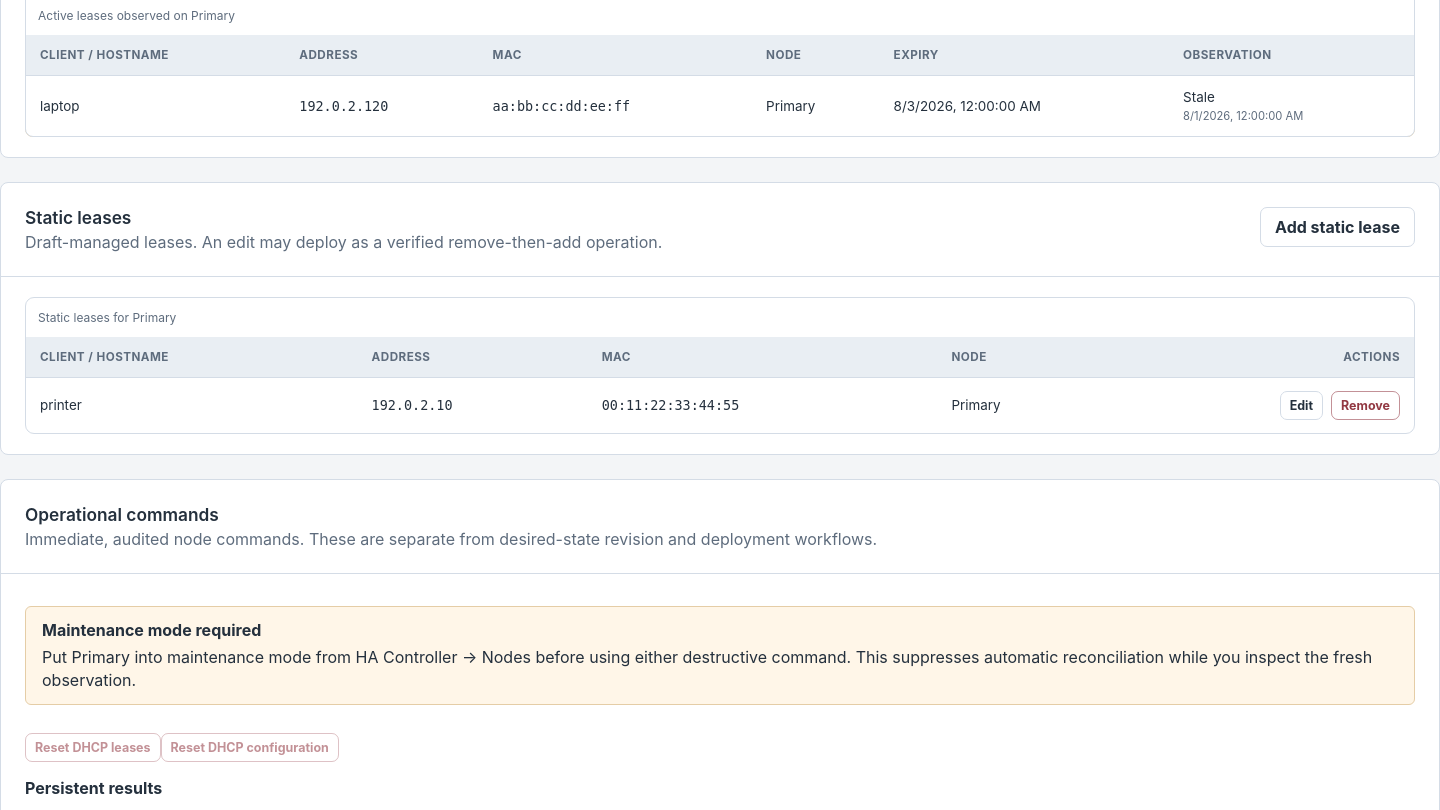
Scenario: DHCP page › edits an existing static lease in a focused draft-only dialog
The image size is (1440, 810).
(page scrolled)
Click the button "Edit" at [1301, 405], box [1280,391,1323,420]
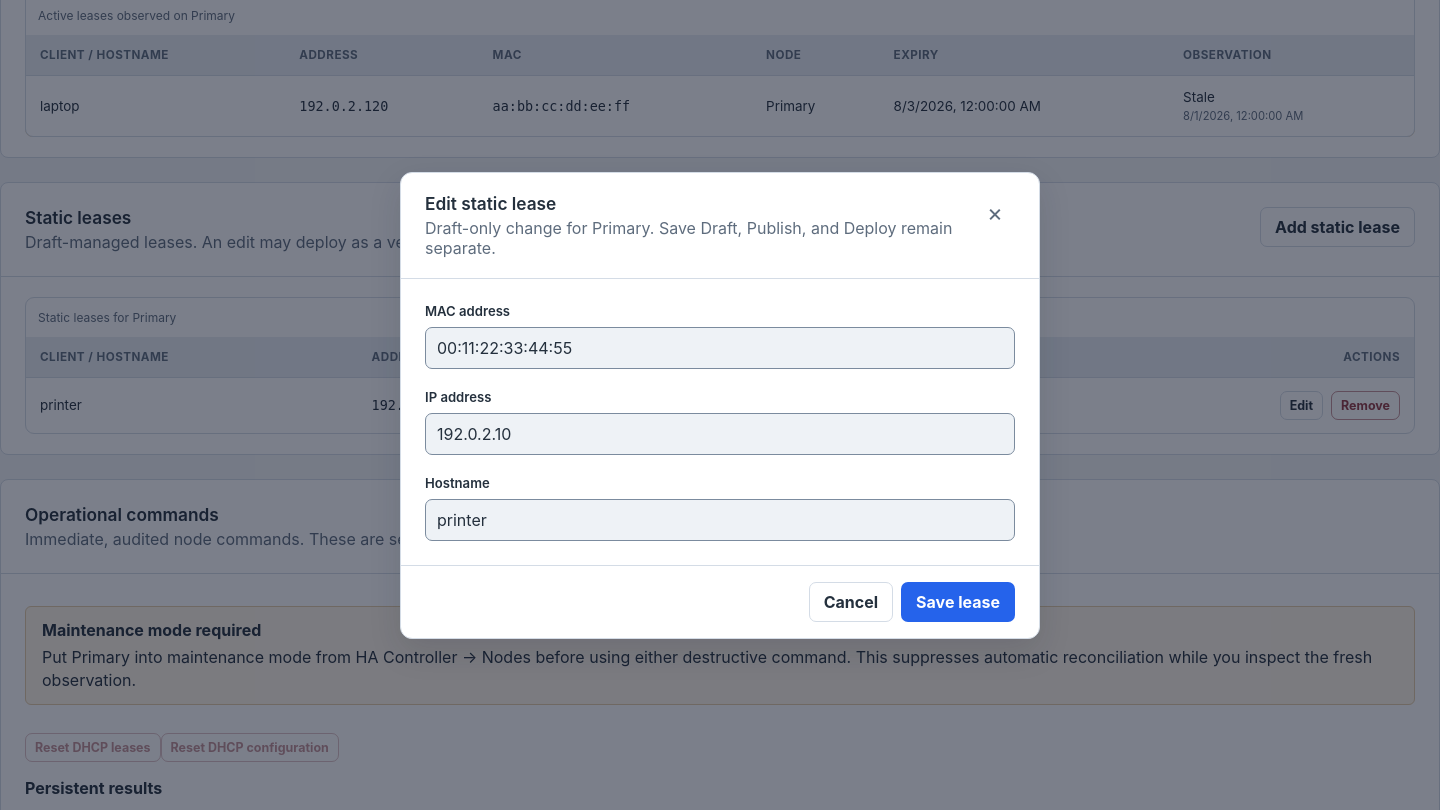
Replace the text in the field labelled "Hostname" with "printer-updated" at [720, 520], box [425,498,1015,540]
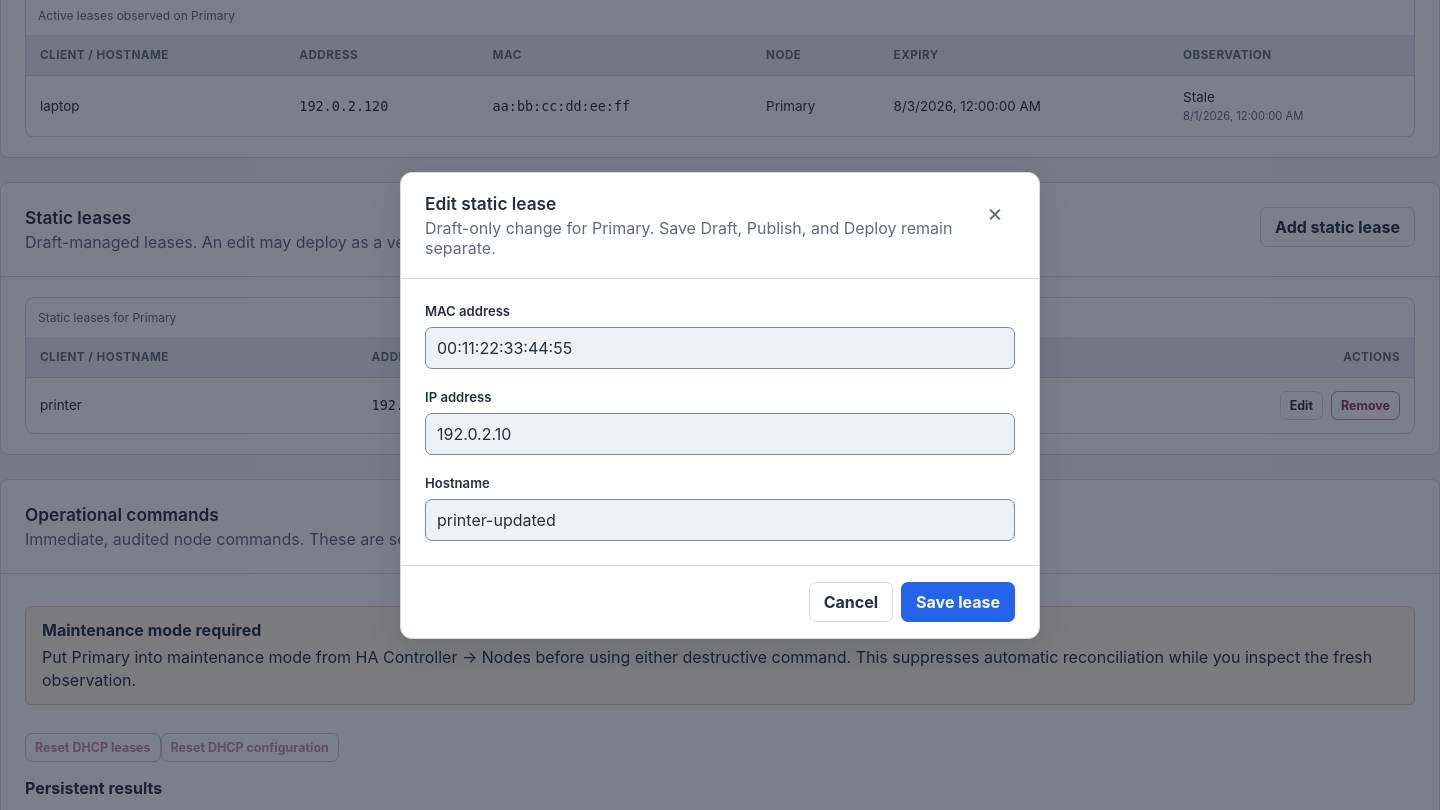
Click the button "Save lease" at [958, 602], box [901,582,1015,622]
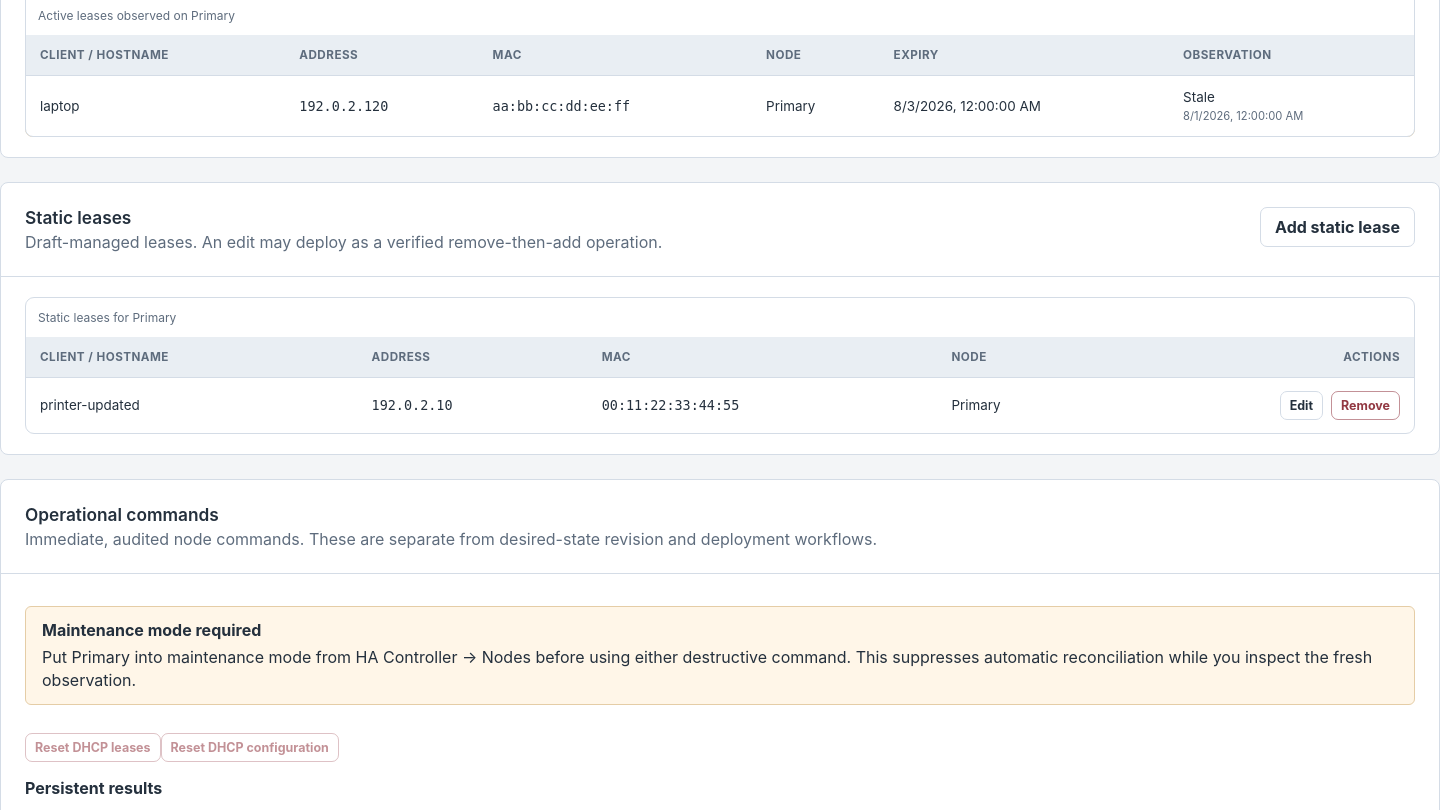
Expected: the text "printer-updated" is shown, [26,377,358,433]
